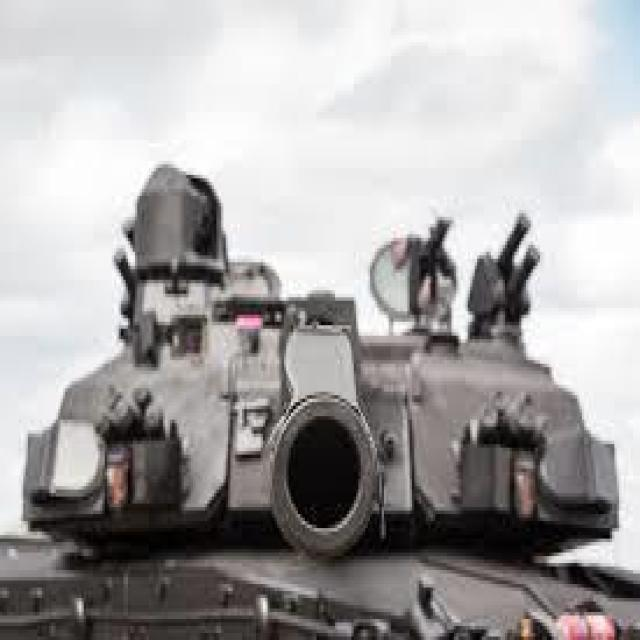Tanks: (34, 159, 585, 617)
